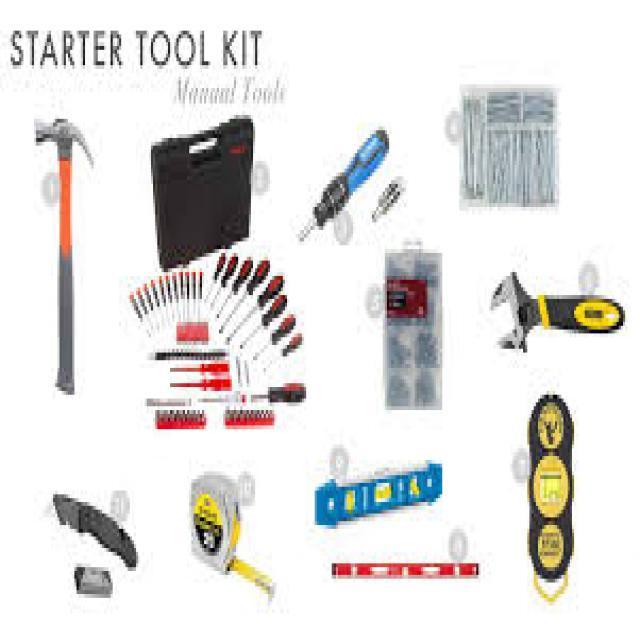hammer: (30, 110, 100, 403)
screwdriver: (294, 122, 394, 254)
wrench: (484, 264, 628, 364)
